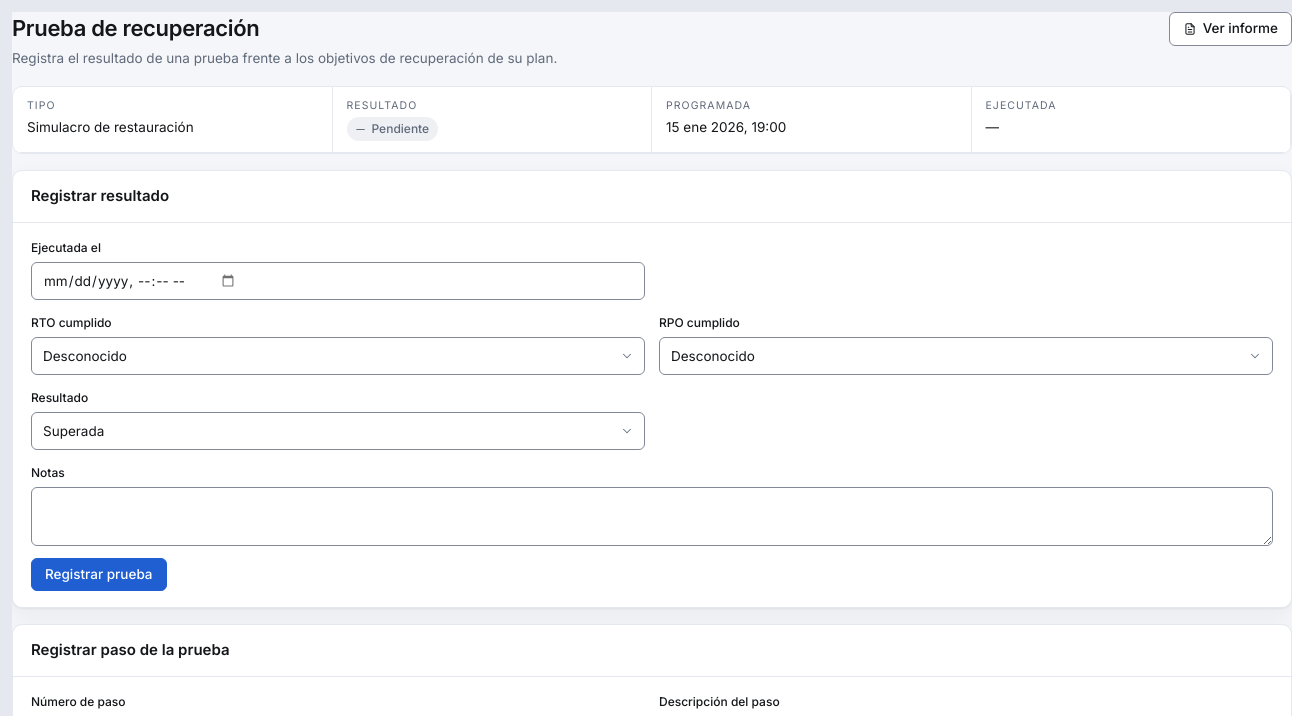
Test case: the test recorder, in Spanish › echoes the moment typed, and words a failed recording
Expected: the heading "Registrar resultado" is shown, [31, 185, 169, 208]
In the field labelled "Ejecutada el": [338, 281] box [31, 262, 645, 300], type "2026-01-16T10:00"
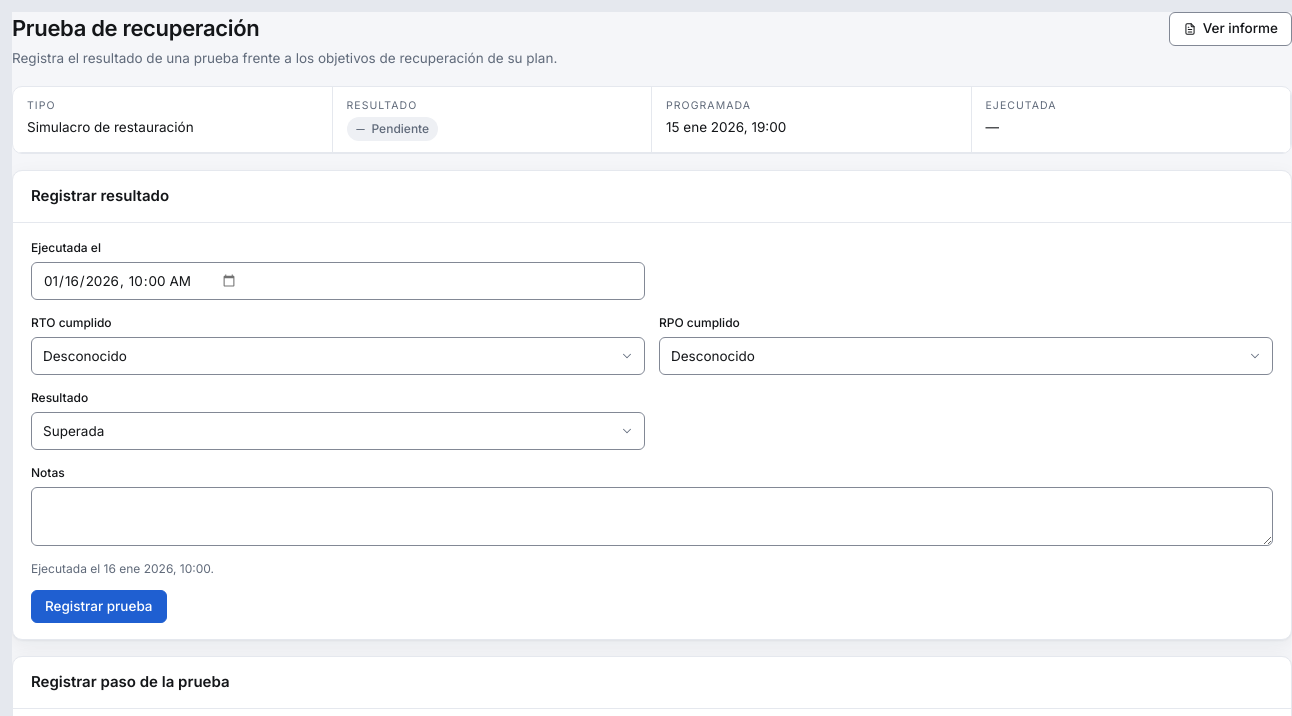
Now the text "Ejecutada el 16 ene 2026, 10:00." is shown, box [31, 561, 214, 576]
Click the button "Registrar prueba": [99, 607] box [31, 590, 166, 623]
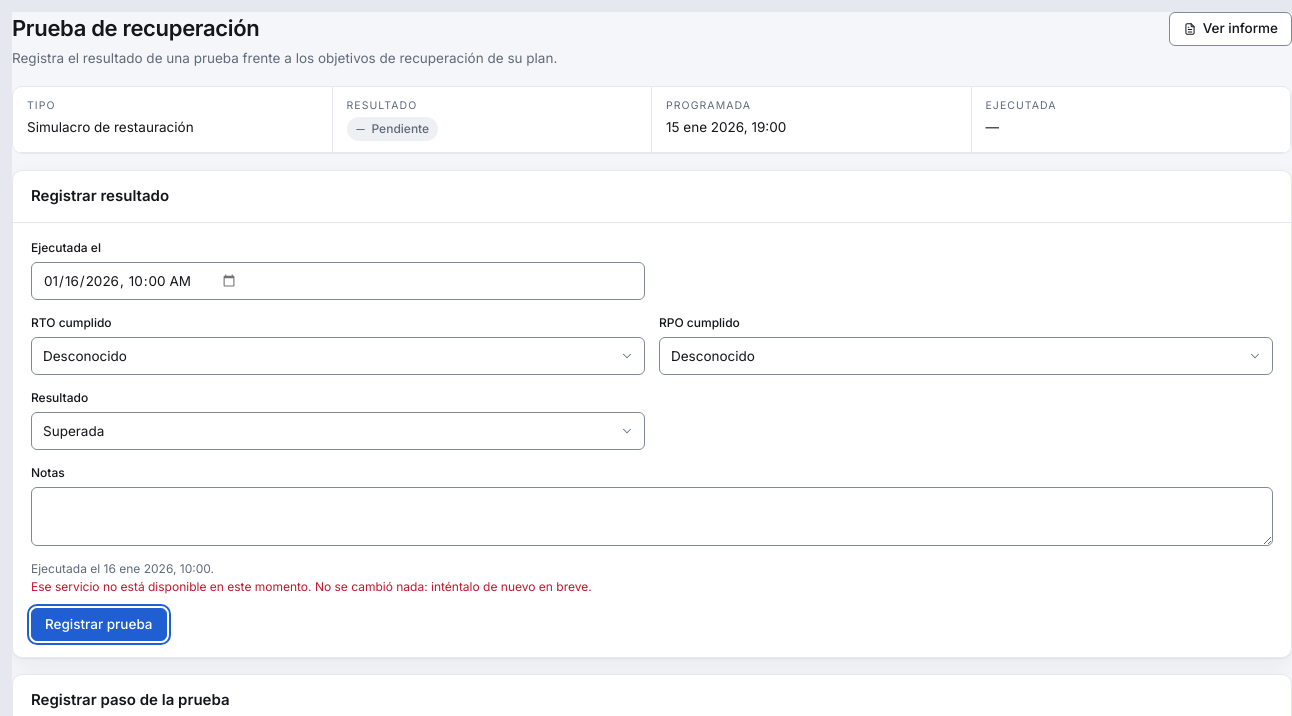
Now the message is shown, box [31, 579, 592, 594]
